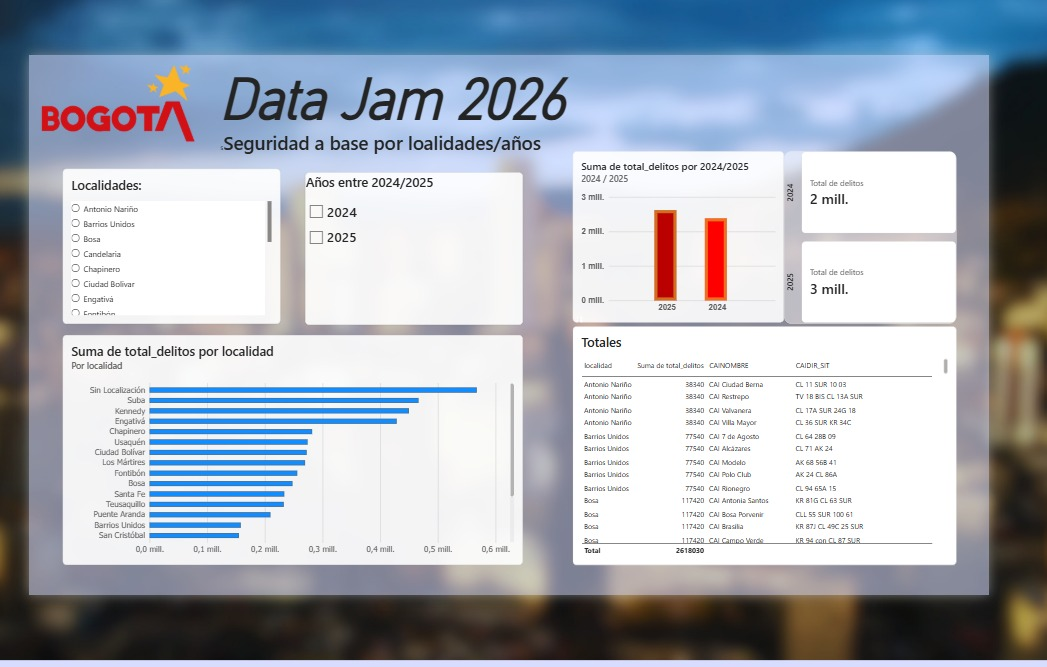

Layout of this report page (visuals, bound fields, positions):
{"tool":"powerbi","page":{"name":"Página 1","canvas":[1920,1080],"ordinal":0},"visuals":[{"type":"textbox","box":[67,192.5,352,150],"z":0},{"type":"clusteredBarChart","fields":{"Category":["delitos_por_localidad_anio_total.localidad"],"Y":["Sum(delitos_por_localidad_anio_total.total_delitos)"]},"box":[67.5,560,920,460],"z":1000},{"type":"cardVisual","fields":{"Data":["Sum(delitos_por_localidad_anio_total.total_delitos)"],"Rows":["2024vs2025.2024vs2025"]},"box":[1510,192.5,345,345],"z":2000},{"type":"image","box":[1095.9,521.8,12,12],"z":3000},{"type":"listSlicer","title":"Localidades:","fields":{"Values":["delitos_por_localidad_anio_total.localidad"]},"box":[67.5,227.5,435,310],"z":4000},{"type":"tableEx","title":"Totales","fields":{"Values":["delitos_por_localidad_anio_total (1).localidad","Sum(delitos_por_localidad_anio_total (1).total_delitos)","Cai.CAINOMBRE","Cai.CAIDIR_SIT"]},"box":[1087.5,542.5,767.5,477.5],"z":5000},{"type":"columnChart","title":"Suma de total_delitos por 2024/2025","fields":{"Category":["2024vs2025.2024vs2025"],"Y":["Sum(2024vs2025.total_delitos)"]},"box":[1087.5,192.5,422.5,342.5],"z":6000},{"type":"image","box":[0,0,357.5,227.5],"z":7000},{"type":"textbox","box":[382,20,972,188],"z":8000},{"type":"slicer","title":"Años entre 2024/2025","fields":{"Values":["2024vs2025.2024vs2025"]},"box":[552.5,235,435,305],"z":9000}]}

Visuals, with their boxes on the page's 1920x1080 design canvas (x1, y1, x2, y2). These are canvas units, not pixel positions in the 1047x667 screenshot, which may show the page scaled, cropped or inside an application window:
textbox: pyautogui.locateOnScreen(67, 192, 419, 342)
clusteredBarChart - delitos_por_localidad_anio_total.localidad x Sum(delitos_por_localidad_anio_total.total_delitos): pyautogui.locateOnScreen(68, 560, 988, 1020)
cardVisual - Sum(delitos_por_localidad_anio_total.total_delitos) x 2024vs2025.2024vs2025: pyautogui.locateOnScreen(1510, 192, 1855, 538)
image: pyautogui.locateOnScreen(1096, 522, 1108, 534)
"Localidades:" listSlicer: pyautogui.locateOnScreen(68, 228, 502, 538)
"Totales" tableEx: pyautogui.locateOnScreen(1088, 542, 1855, 1020)
"Suma de total_delitos por 2024/2025" columnChart: pyautogui.locateOnScreen(1088, 192, 1510, 535)
image: pyautogui.locateOnScreen(0, 0, 358, 228)
textbox: pyautogui.locateOnScreen(382, 20, 1354, 208)
"Años entre 2024/2025" slicer: pyautogui.locateOnScreen(552, 235, 988, 540)
